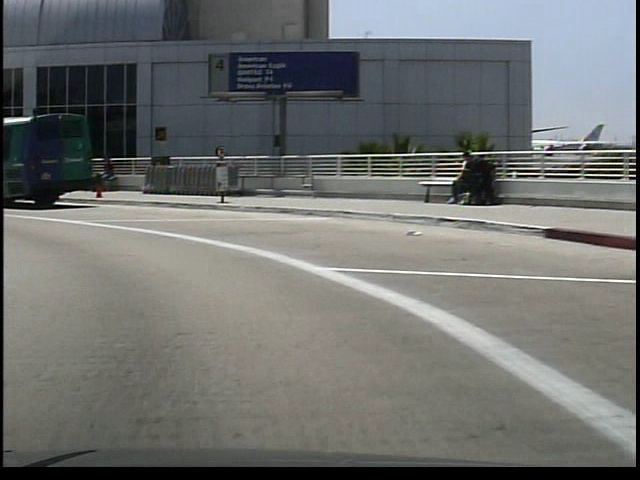person: (93, 152, 116, 196)
